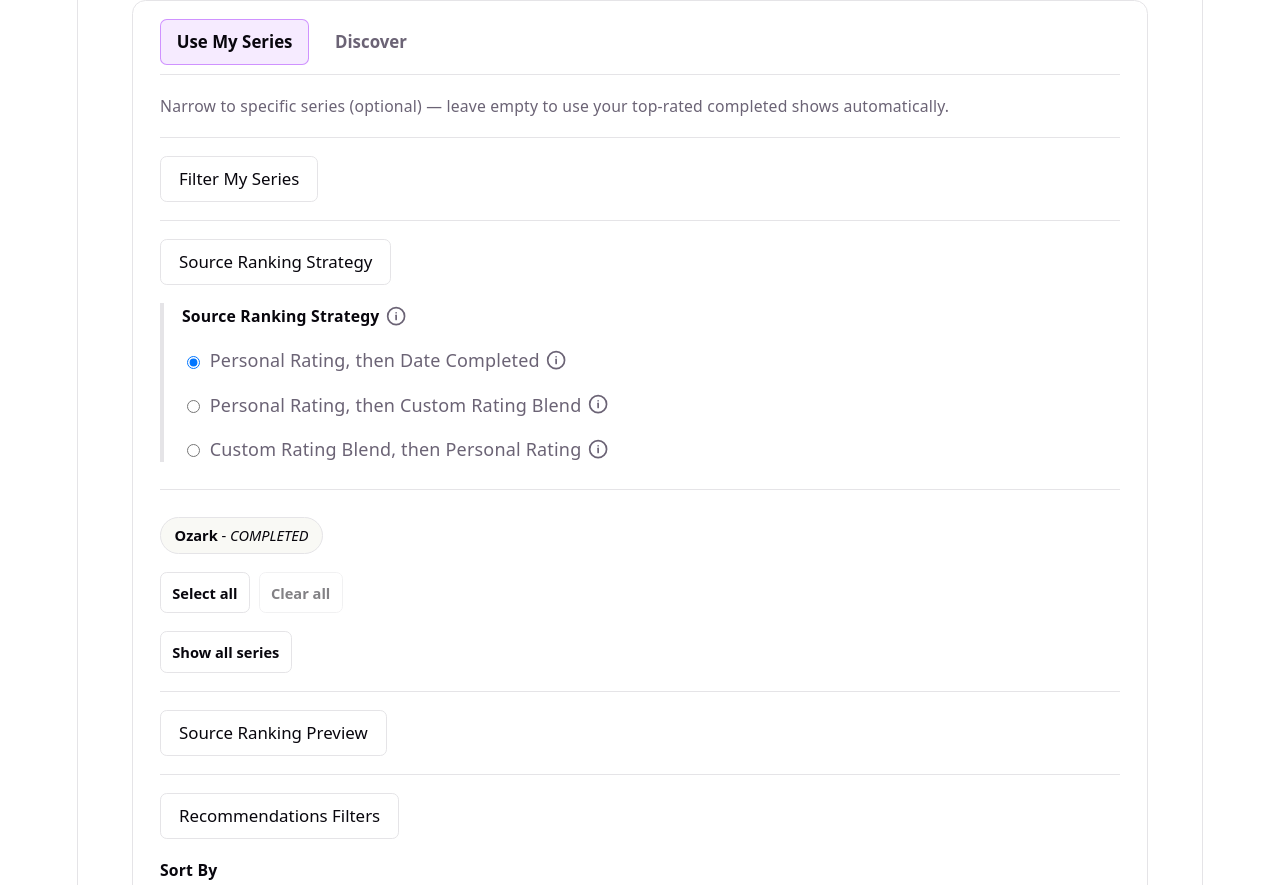
FRONTEND-011-AC-04: Specific Series picker via getAll() › omits the year/country segment when either field is null
The width and height of the screenshot is (1280, 885).
Click the button "Show all series".
click(226, 652)  # box [160, 631, 292, 673]
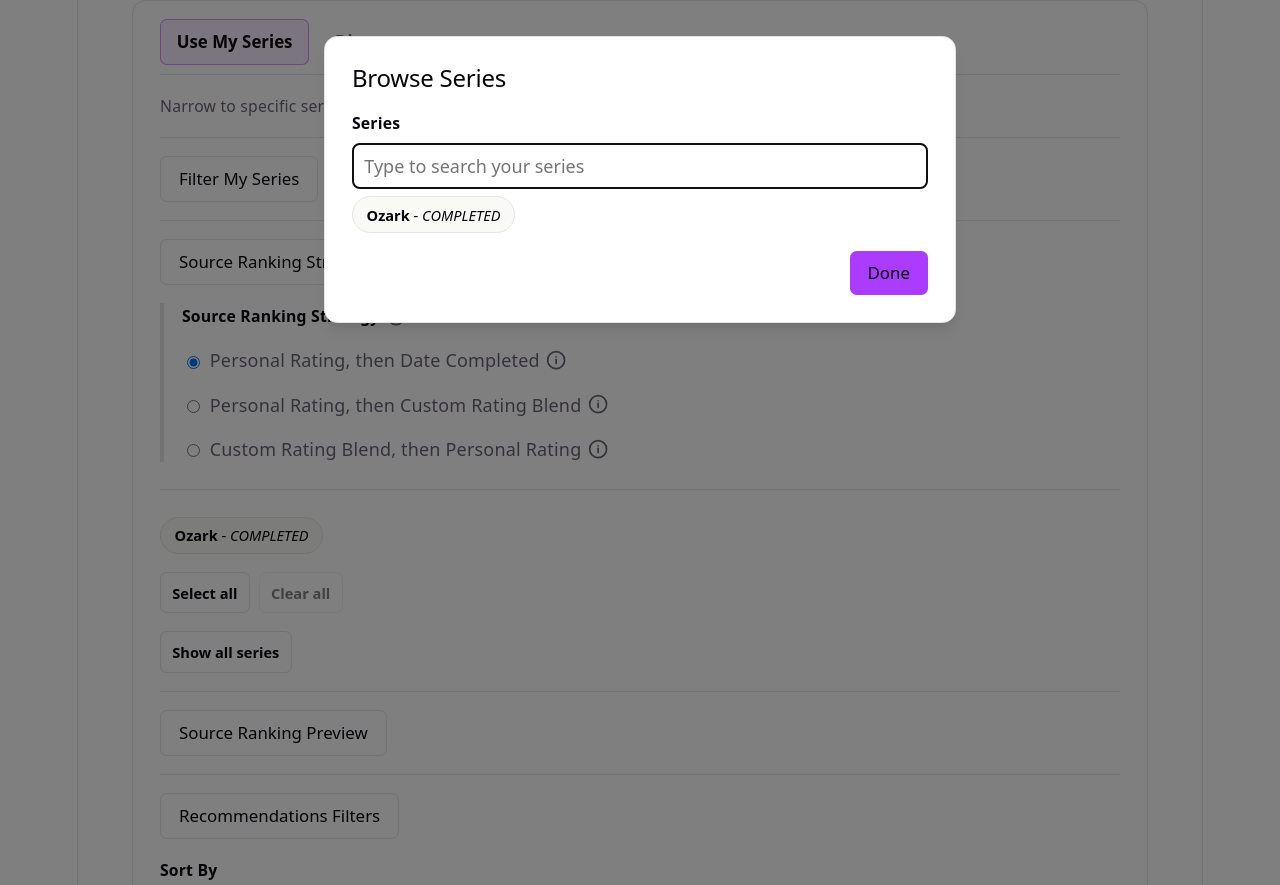
expect the button "Ozark - COMPLETED" is shown: met, box [352, 196, 515, 233]
